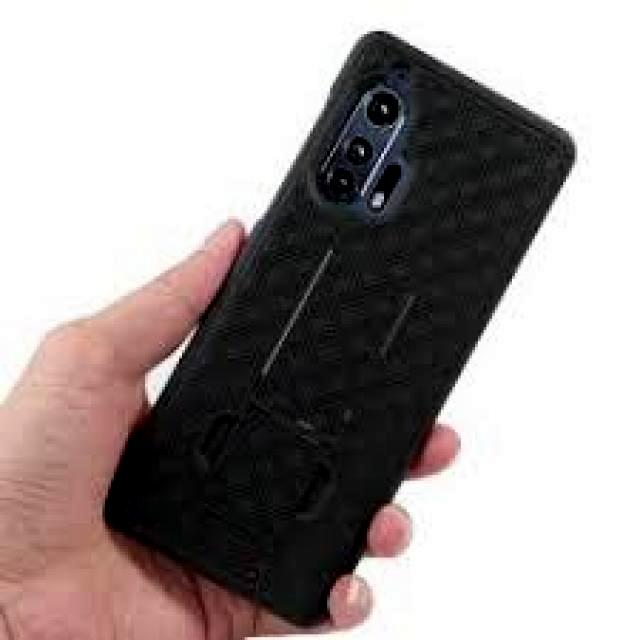lens_back: (359, 86, 405, 131), (341, 136, 382, 166), (323, 168, 355, 198)
phone: (102, 30, 580, 625)
